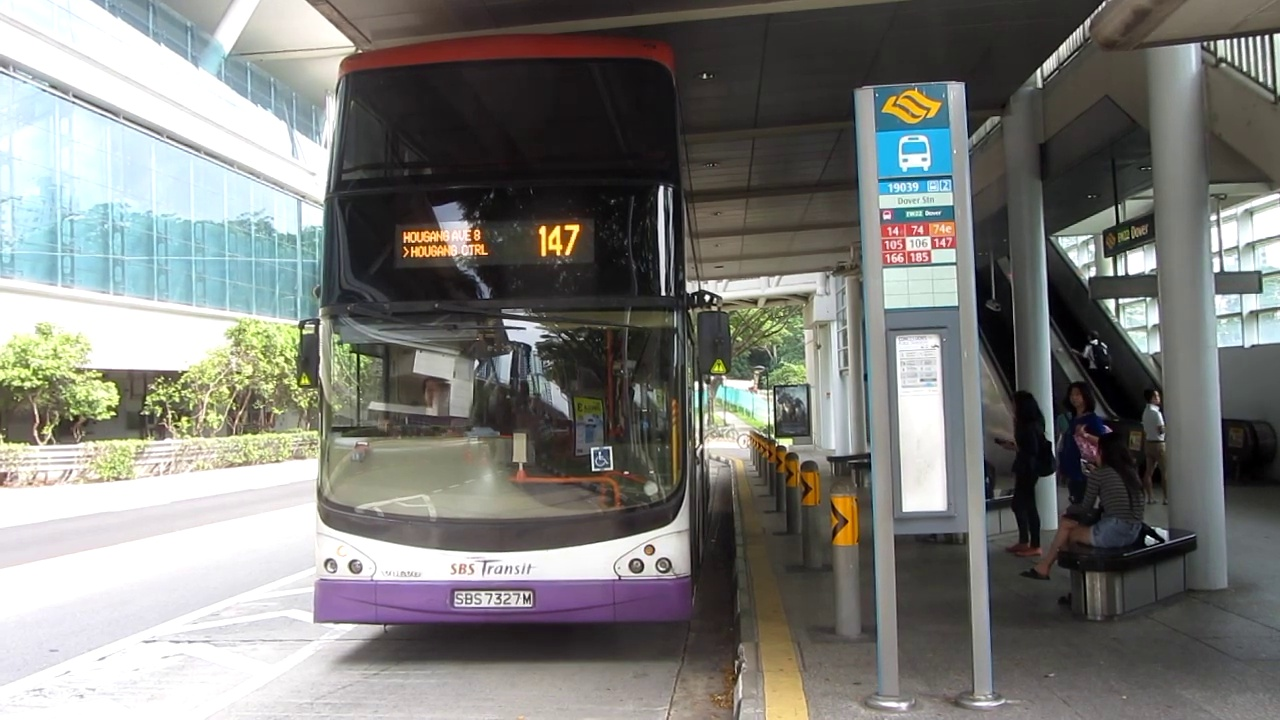bus panel: (392, 216, 597, 270)
